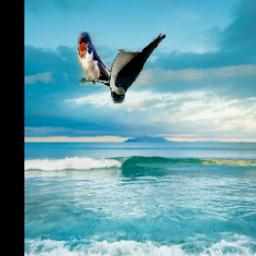Swallow: (109, 34, 165, 105), (77, 32, 118, 86)
